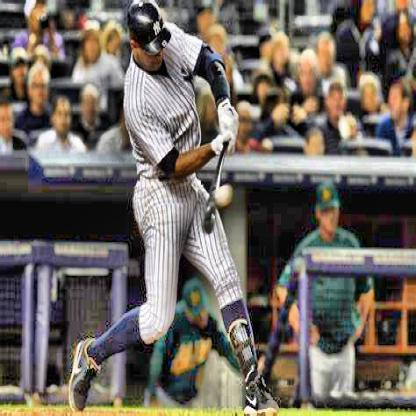baseball: (216, 181, 233, 212)
